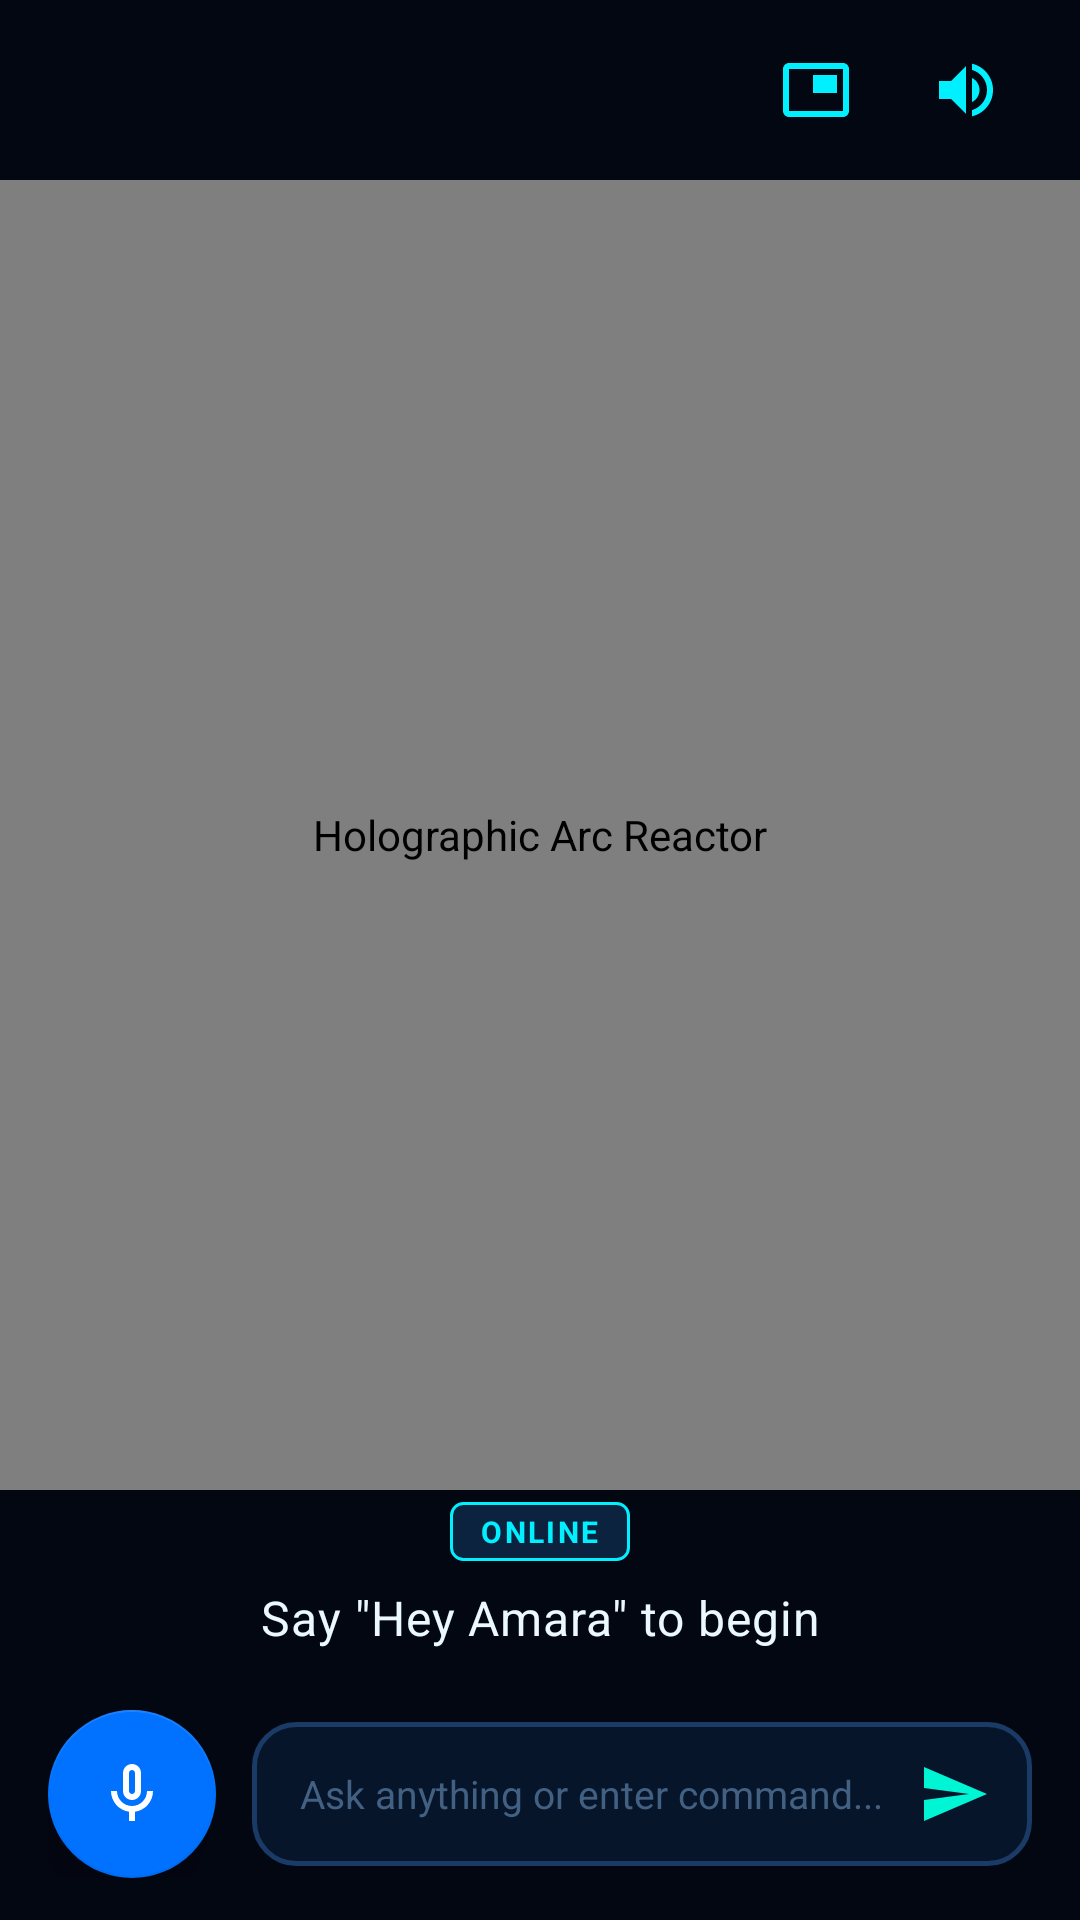

Icons on this 1080*1920 Android screen, each with the point to tap as [x,y]:
Execute Command: [955,1794]
Toggle Mute: [966,90]
Voice Command / Interrupt: [132,1794]
